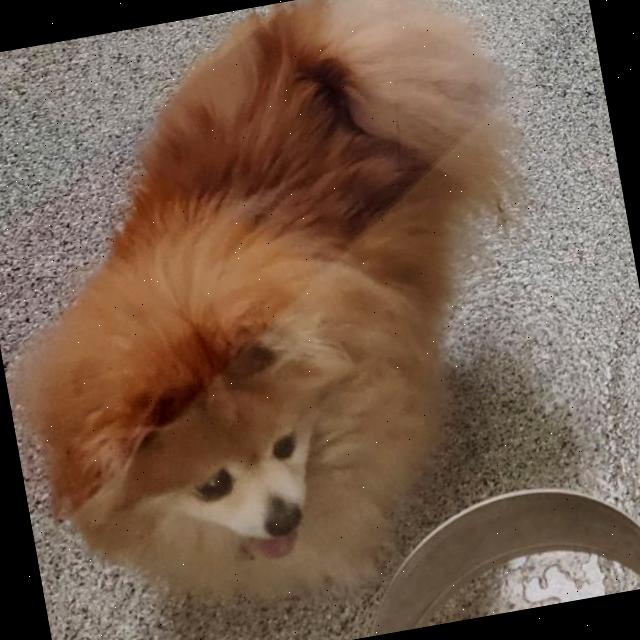pomeranian_dog: (44, 232, 418, 631)
